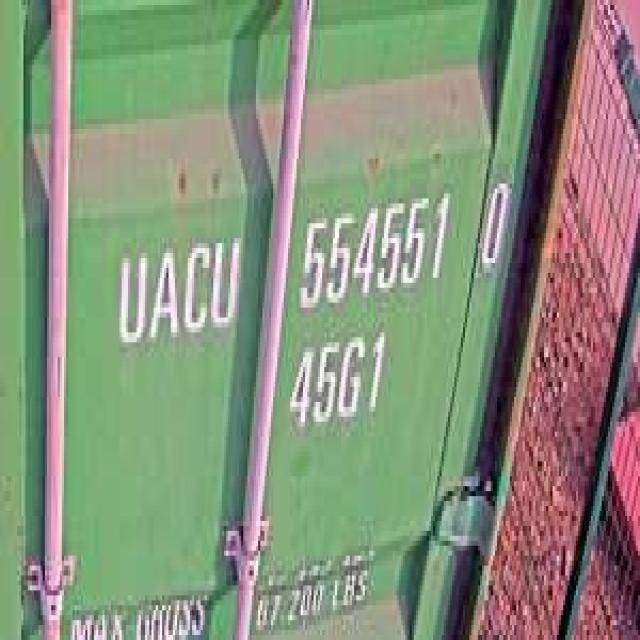dv: (476, 163, 514, 283)
owner: (111, 223, 243, 357)
serial: (294, 184, 452, 312)
size: (284, 322, 390, 442)
